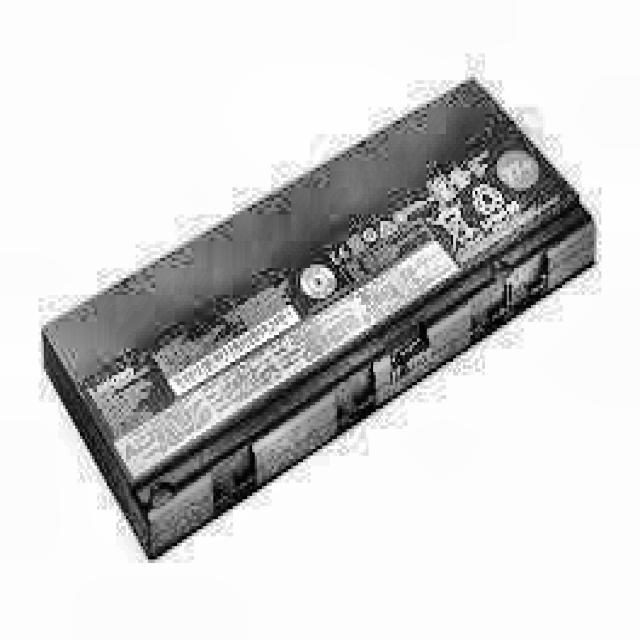Battery: (36, 80, 602, 560)
